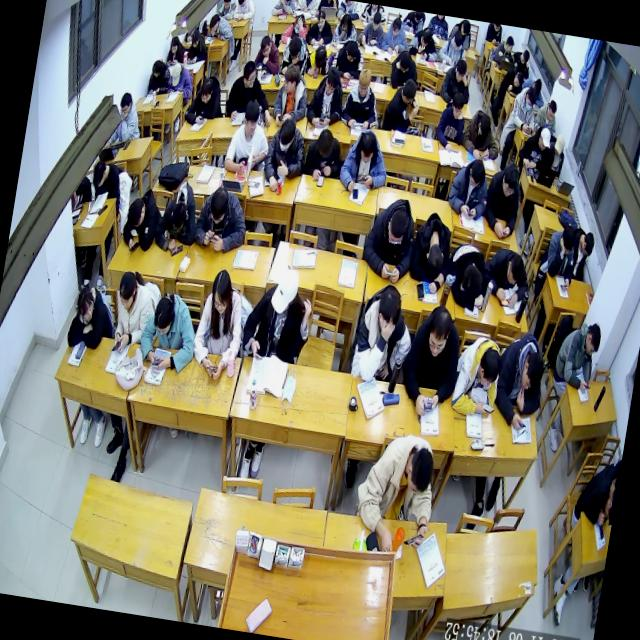bow: (490, 328, 550, 432), (136, 288, 202, 376), (450, 332, 506, 417), (405, 209, 456, 295), (193, 183, 252, 256), (154, 180, 202, 253), (66, 284, 116, 352), (444, 240, 492, 310), (482, 248, 532, 312), (119, 186, 164, 256), (302, 125, 346, 184), (460, 106, 504, 163), (185, 74, 228, 129), (404, 22, 442, 62), (206, 10, 238, 43), (281, 10, 310, 46), (303, 44, 332, 80), (500, 66, 526, 92)
down: (404, 444, 436, 496), (269, 266, 301, 316), (375, 286, 404, 336), (426, 306, 453, 359), (207, 268, 232, 314), (520, 351, 546, 393), (476, 346, 502, 388), (151, 294, 175, 336), (208, 184, 230, 225), (115, 270, 136, 312), (385, 208, 408, 245), (276, 115, 298, 151), (126, 196, 148, 230), (500, 163, 520, 199), (583, 323, 602, 357), (314, 128, 334, 160), (169, 200, 189, 232), (505, 253, 525, 284), (324, 67, 342, 98), (90, 159, 108, 189), (448, 91, 466, 121), (467, 158, 485, 188), (357, 132, 375, 162), (559, 226, 577, 256), (356, 68, 372, 98), (476, 112, 492, 142), (118, 91, 134, 120), (199, 76, 214, 105), (452, 58, 468, 84), (286, 36, 302, 62), (580, 231, 595, 258), (537, 128, 553, 153), (344, 40, 358, 64), (314, 45, 328, 69), (553, 132, 567, 156), (524, 86, 538, 110), (398, 51, 412, 74), (258, 35, 272, 58), (292, 12, 306, 34), (388, 16, 402, 38), (170, 62, 182, 86), (546, 98, 559, 120), (419, 27, 432, 48), (370, 10, 382, 31), (452, 30, 464, 51), (208, 14, 220, 34), (169, 34, 180, 55), (190, 27, 201, 47), (316, 9, 326, 30), (340, 10, 350, 30), (521, 49, 531, 64), (222, 0, 232, 11), (237, 0, 247, 6)
sit: (349, 426, 442, 556), (397, 300, 466, 422), (238, 263, 318, 368), (349, 280, 419, 387), (188, 266, 252, 382), (359, 192, 420, 284), (222, 58, 280, 128), (224, 98, 276, 176), (110, 268, 156, 356), (338, 126, 393, 197), (262, 116, 310, 195), (552, 319, 603, 392), (480, 158, 526, 238), (446, 156, 492, 222), (339, 66, 385, 131), (270, 60, 312, 128), (539, 222, 580, 291), (306, 66, 348, 132), (382, 74, 423, 133), (433, 90, 469, 153), (438, 57, 476, 106), (112, 89, 146, 143), (506, 84, 540, 136), (517, 124, 553, 172), (328, 38, 366, 82), (88, 160, 125, 204), (568, 226, 596, 281), (252, 33, 284, 80), (388, 48, 422, 92), (279, 32, 312, 76), (380, 15, 412, 57), (437, 28, 470, 67), (305, 8, 337, 48), (355, 8, 386, 48), (166, 62, 196, 100), (544, 134, 568, 180), (146, 57, 172, 96), (533, 98, 560, 135), (186, 26, 212, 64), (332, 12, 360, 46), (508, 48, 532, 79), (494, 32, 516, 63), (166, 34, 187, 66), (232, 0, 257, 23), (196, 163, 216, 186), (216, 0, 237, 20)
